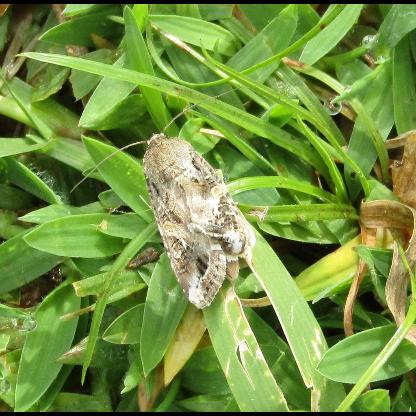Fall Armyworm Moth: (67, 82, 260, 314)
